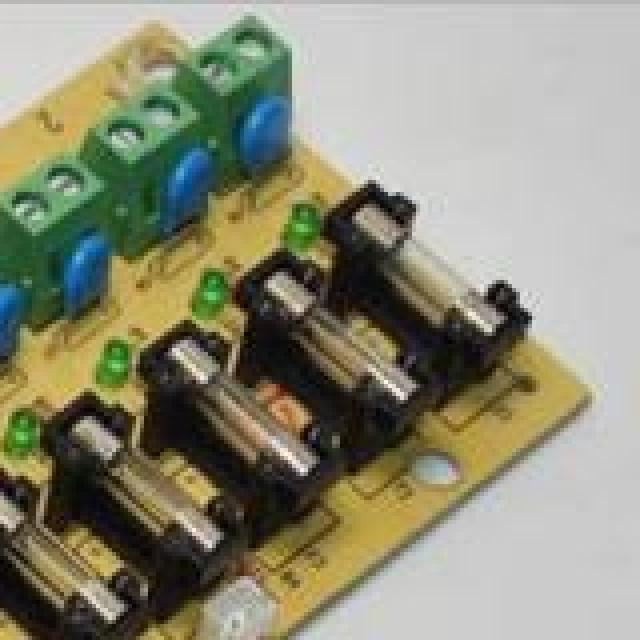LED: (88, 336, 160, 404), (176, 264, 242, 336), (276, 204, 338, 262), (0, 400, 52, 460)
connector: (152, 0, 304, 168), (0, 148, 120, 312), (76, 72, 202, 228), (200, 572, 280, 640), (0, 208, 4, 376)
fuse: (256, 256, 418, 418), (68, 404, 228, 568), (364, 192, 514, 360), (172, 332, 316, 492), (0, 476, 116, 624), (0, 556, 16, 640)
